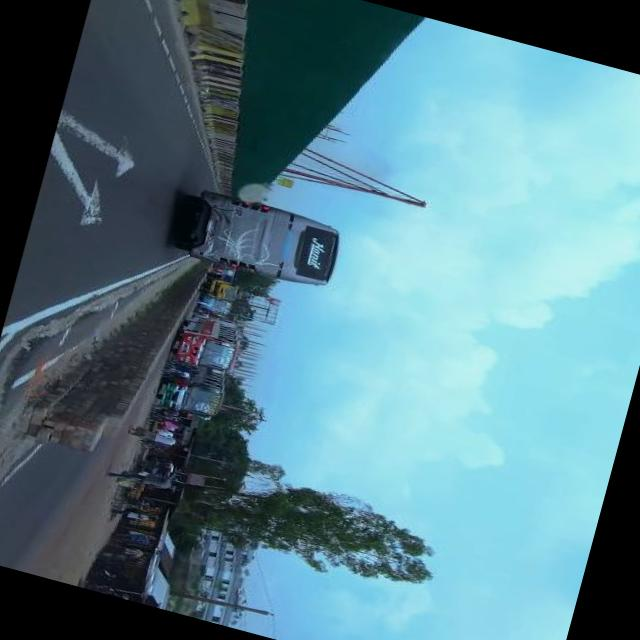bus: (175, 184, 348, 292), (158, 358, 234, 422), (174, 312, 248, 374), (202, 294, 236, 318), (216, 264, 240, 278)
motorcycle: (88, 565, 134, 598), (146, 442, 165, 452)
truck: (202, 270, 248, 304)
